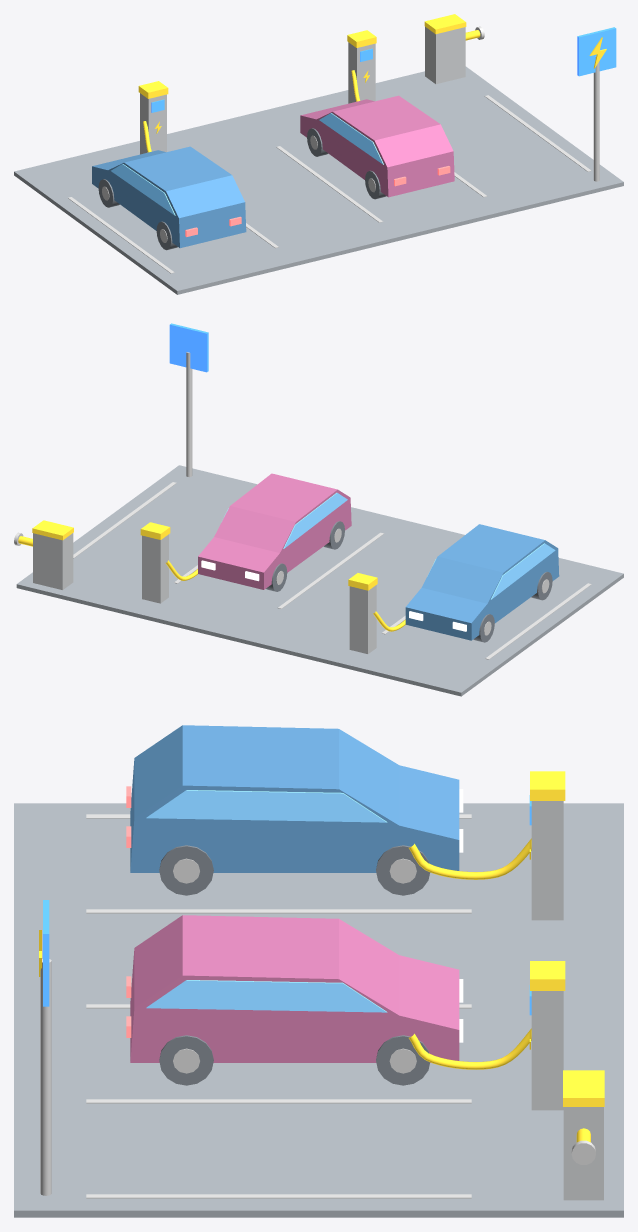
Rendered from LoadEV.glb.
The picture shows the model from 3 angles, top to bottom: view 1: azimuth 30°, elevation 25°; view 2: azimuth 150°, elevation 25°; view 3: azimuth 270°, elevation 25°; orthographic projection. The views are drawn at different scales.
Parts seen in each view (by area): view 1: pad, body (×2), pillar (×2), feeder, windows (×2), bay_line (×3), sign, band (×2), sign_pole; view 2: pad, body (×2), pillar (×2), feeder, windows (×2), sign, sign_pole, band; view 3: pad, body (×2), windows (×2), pillar (×2), wheel (×4), bay_line (×3), band (×3), feeder, sign_pole, cable (×2), sign.
Boxes of the visible parts, x1,y1,x2,y2 form: pad: (14, 66, 623, 294); body (×2): (92, 95, 454, 248); pillar (×2): (140, 42, 375, 154); feeder: (425, 27, 465, 84); windows (×2): (111, 113, 383, 215); bay_line (×3): (68, 95, 591, 273); sign: (577, 27, 616, 76); band (×2): (138, 14, 466, 98); sign_pole: (593, 57, 599, 181); pad: (16, 465, 623, 696); body (×2): (198, 473, 559, 640); pillar (×2): (142, 534, 376, 653); feeder: (33, 533, 73, 589); windows (×2): (224, 492, 555, 599); sign: (169, 323, 208, 372); sign_pole: (186, 352, 192, 477); band: (32, 520, 73, 540); pad: (14, 803, 623, 1217); body (×2): (130, 725, 459, 1062); windows (×2): (146, 790, 387, 1012); pillar (×2): (531, 801, 563, 1110); wheel (×4): (159, 845, 429, 1085); bay_line (×3): (86, 909, 471, 1198); band (×3): (530, 771, 604, 1106); feeder: (563, 1107, 603, 1200); sign_pole: (40, 959, 51, 1195); cable (×2): (409, 838, 531, 1069); sign: (43, 900, 49, 1006).
Bounding box in the file's own units: 12.27 × 3.9 × 7.6.
